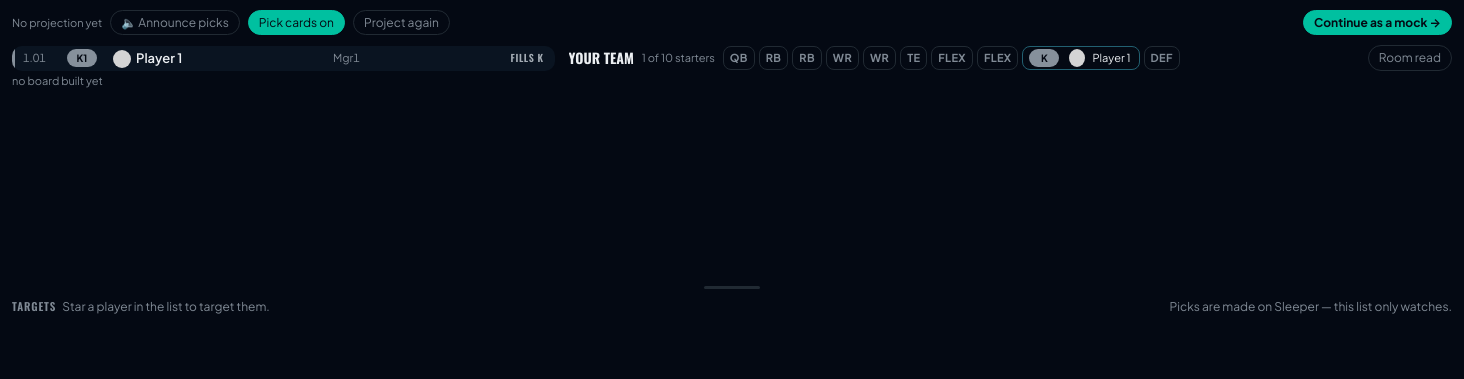
it: LiveDraftView mock-started analytics › counts nothing when creating the session fails
Step 1. Click the button "Continue as a mock →" → {"x": 1378, "y": 23}, box [1303,10,1452,35]
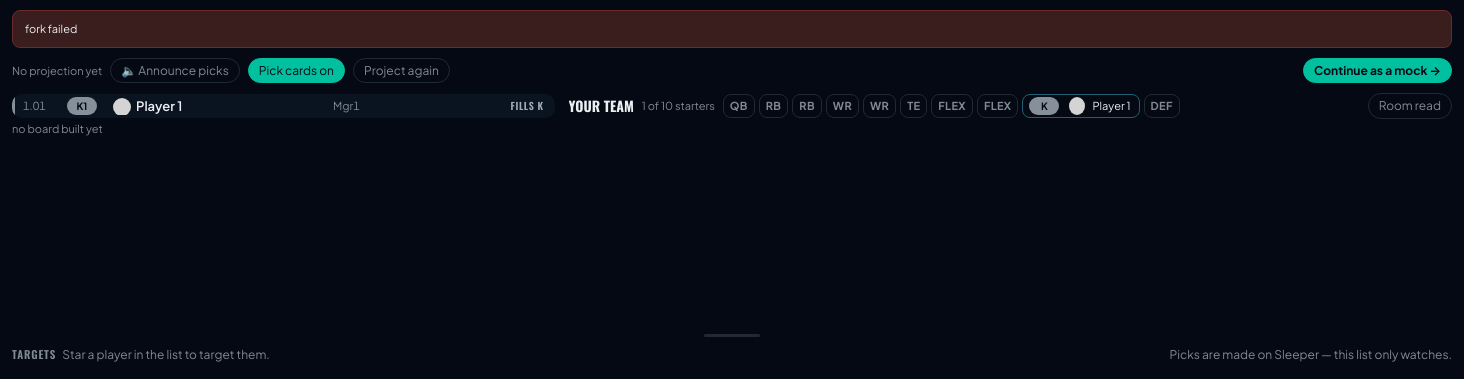
Result: the text "fork failed" is shown at [12,10,1452,48]
